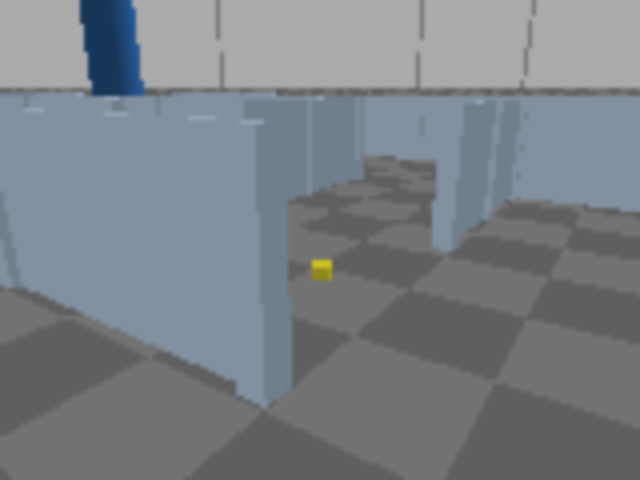puck: (312, 260, 332, 280)
